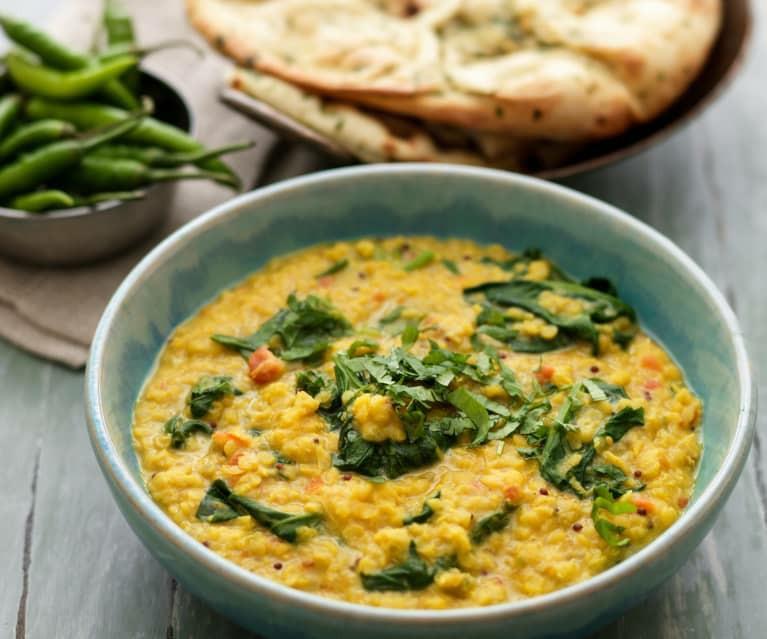Dal: (135, 235, 699, 606)
